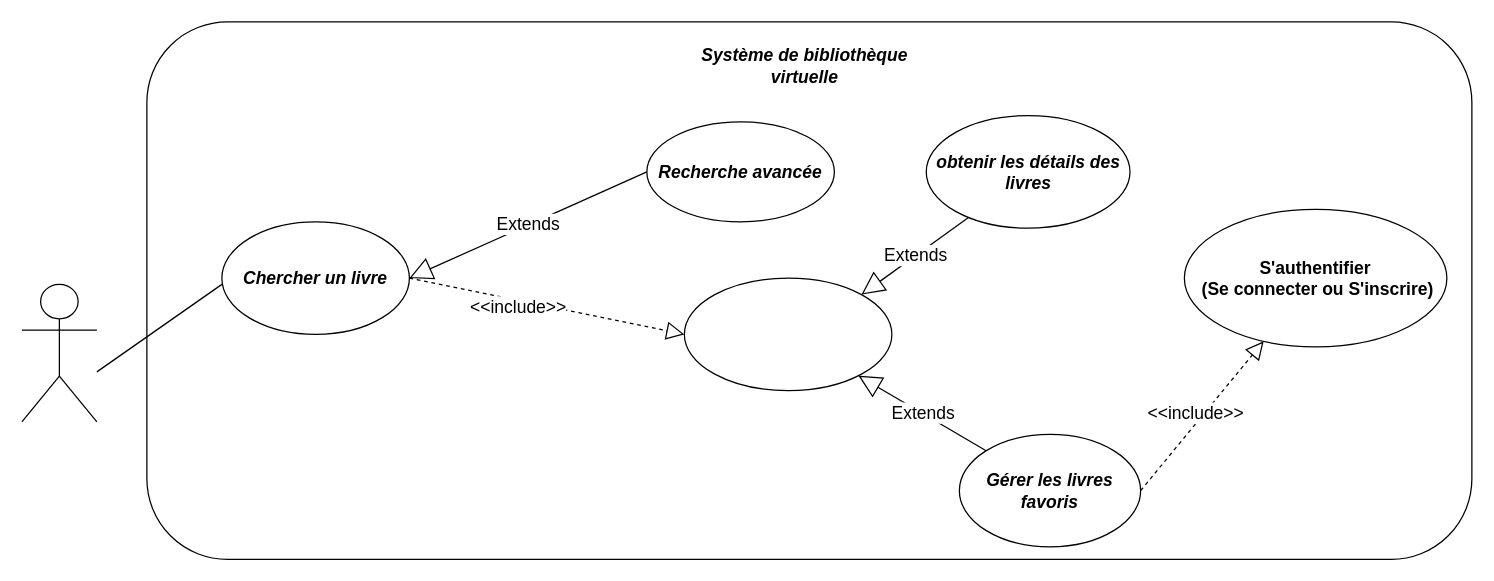
This 1494x581 diagram has some shape labels left out. Here are the shapes that lost their labels. From the top down, the centre of each, then its label:
At point 59,352: "Personne".
At point 787,334: "Parcourir les résultats de la recherche".
